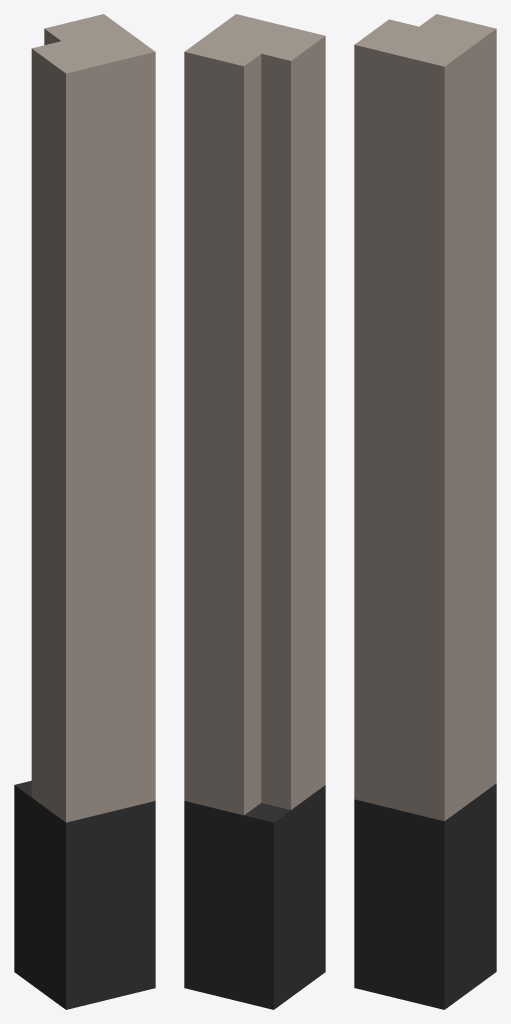
Rendered from Cantos.fbx.
3 views of the same model, side by side, from view 1: azimuth 30°, elevation 25°; view 2: azimuth 150°, elevation 25°; view 3: azimuth 330°, elevation 25° (orthographic).
Parts seen in each view (by area): view 1: Parede.067; view 2: Parede.067; view 3: Parede.067.
Boxes of the visible parts, box(x1,y1,x2,y2) form: Parede.067: box(14, 14, 155, 1009); Parede.067: box(184, 14, 325, 1009); Parede.067: box(354, 14, 496, 1009).
Size of the model in its own units: 30 by 300 by 30.01.
